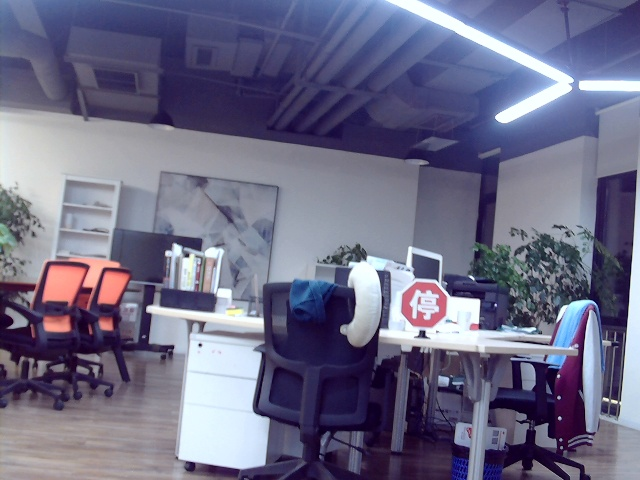stop: (410, 289, 440, 318)
